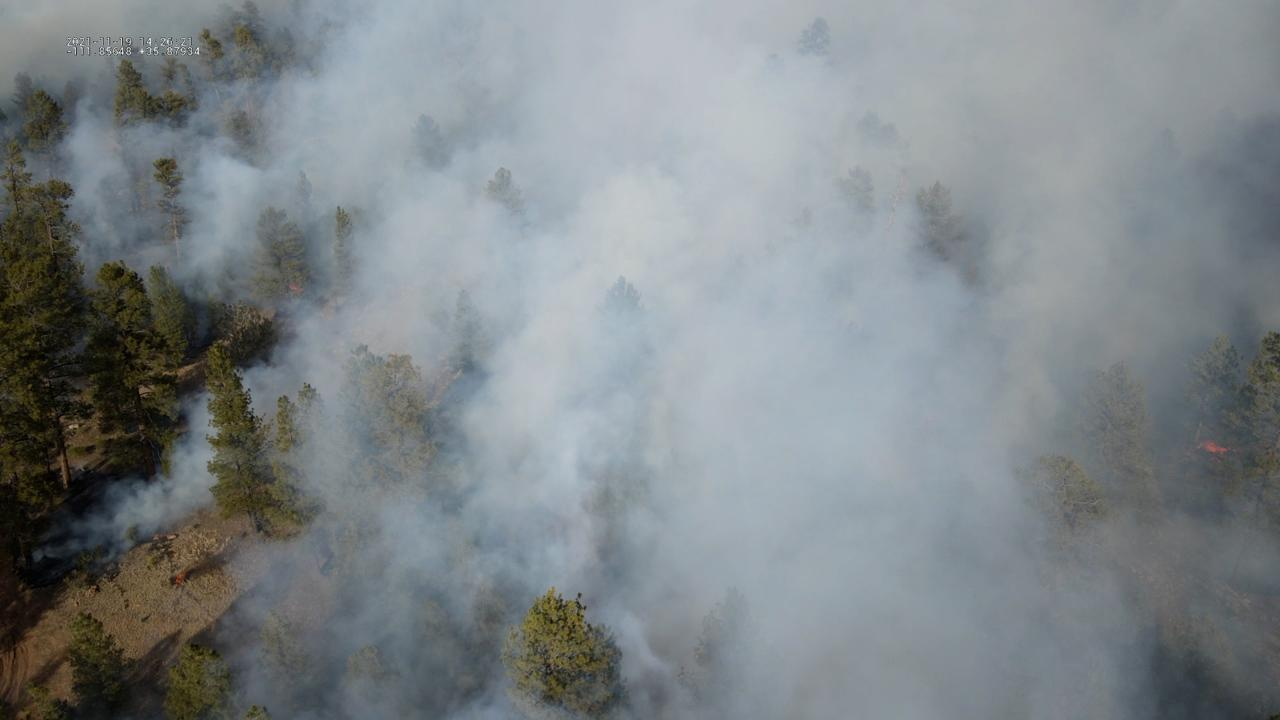fire: (1199, 441, 1229, 456), (287, 283, 305, 295), (175, 574, 184, 586)
smoke: (0, 0, 1280, 720)
